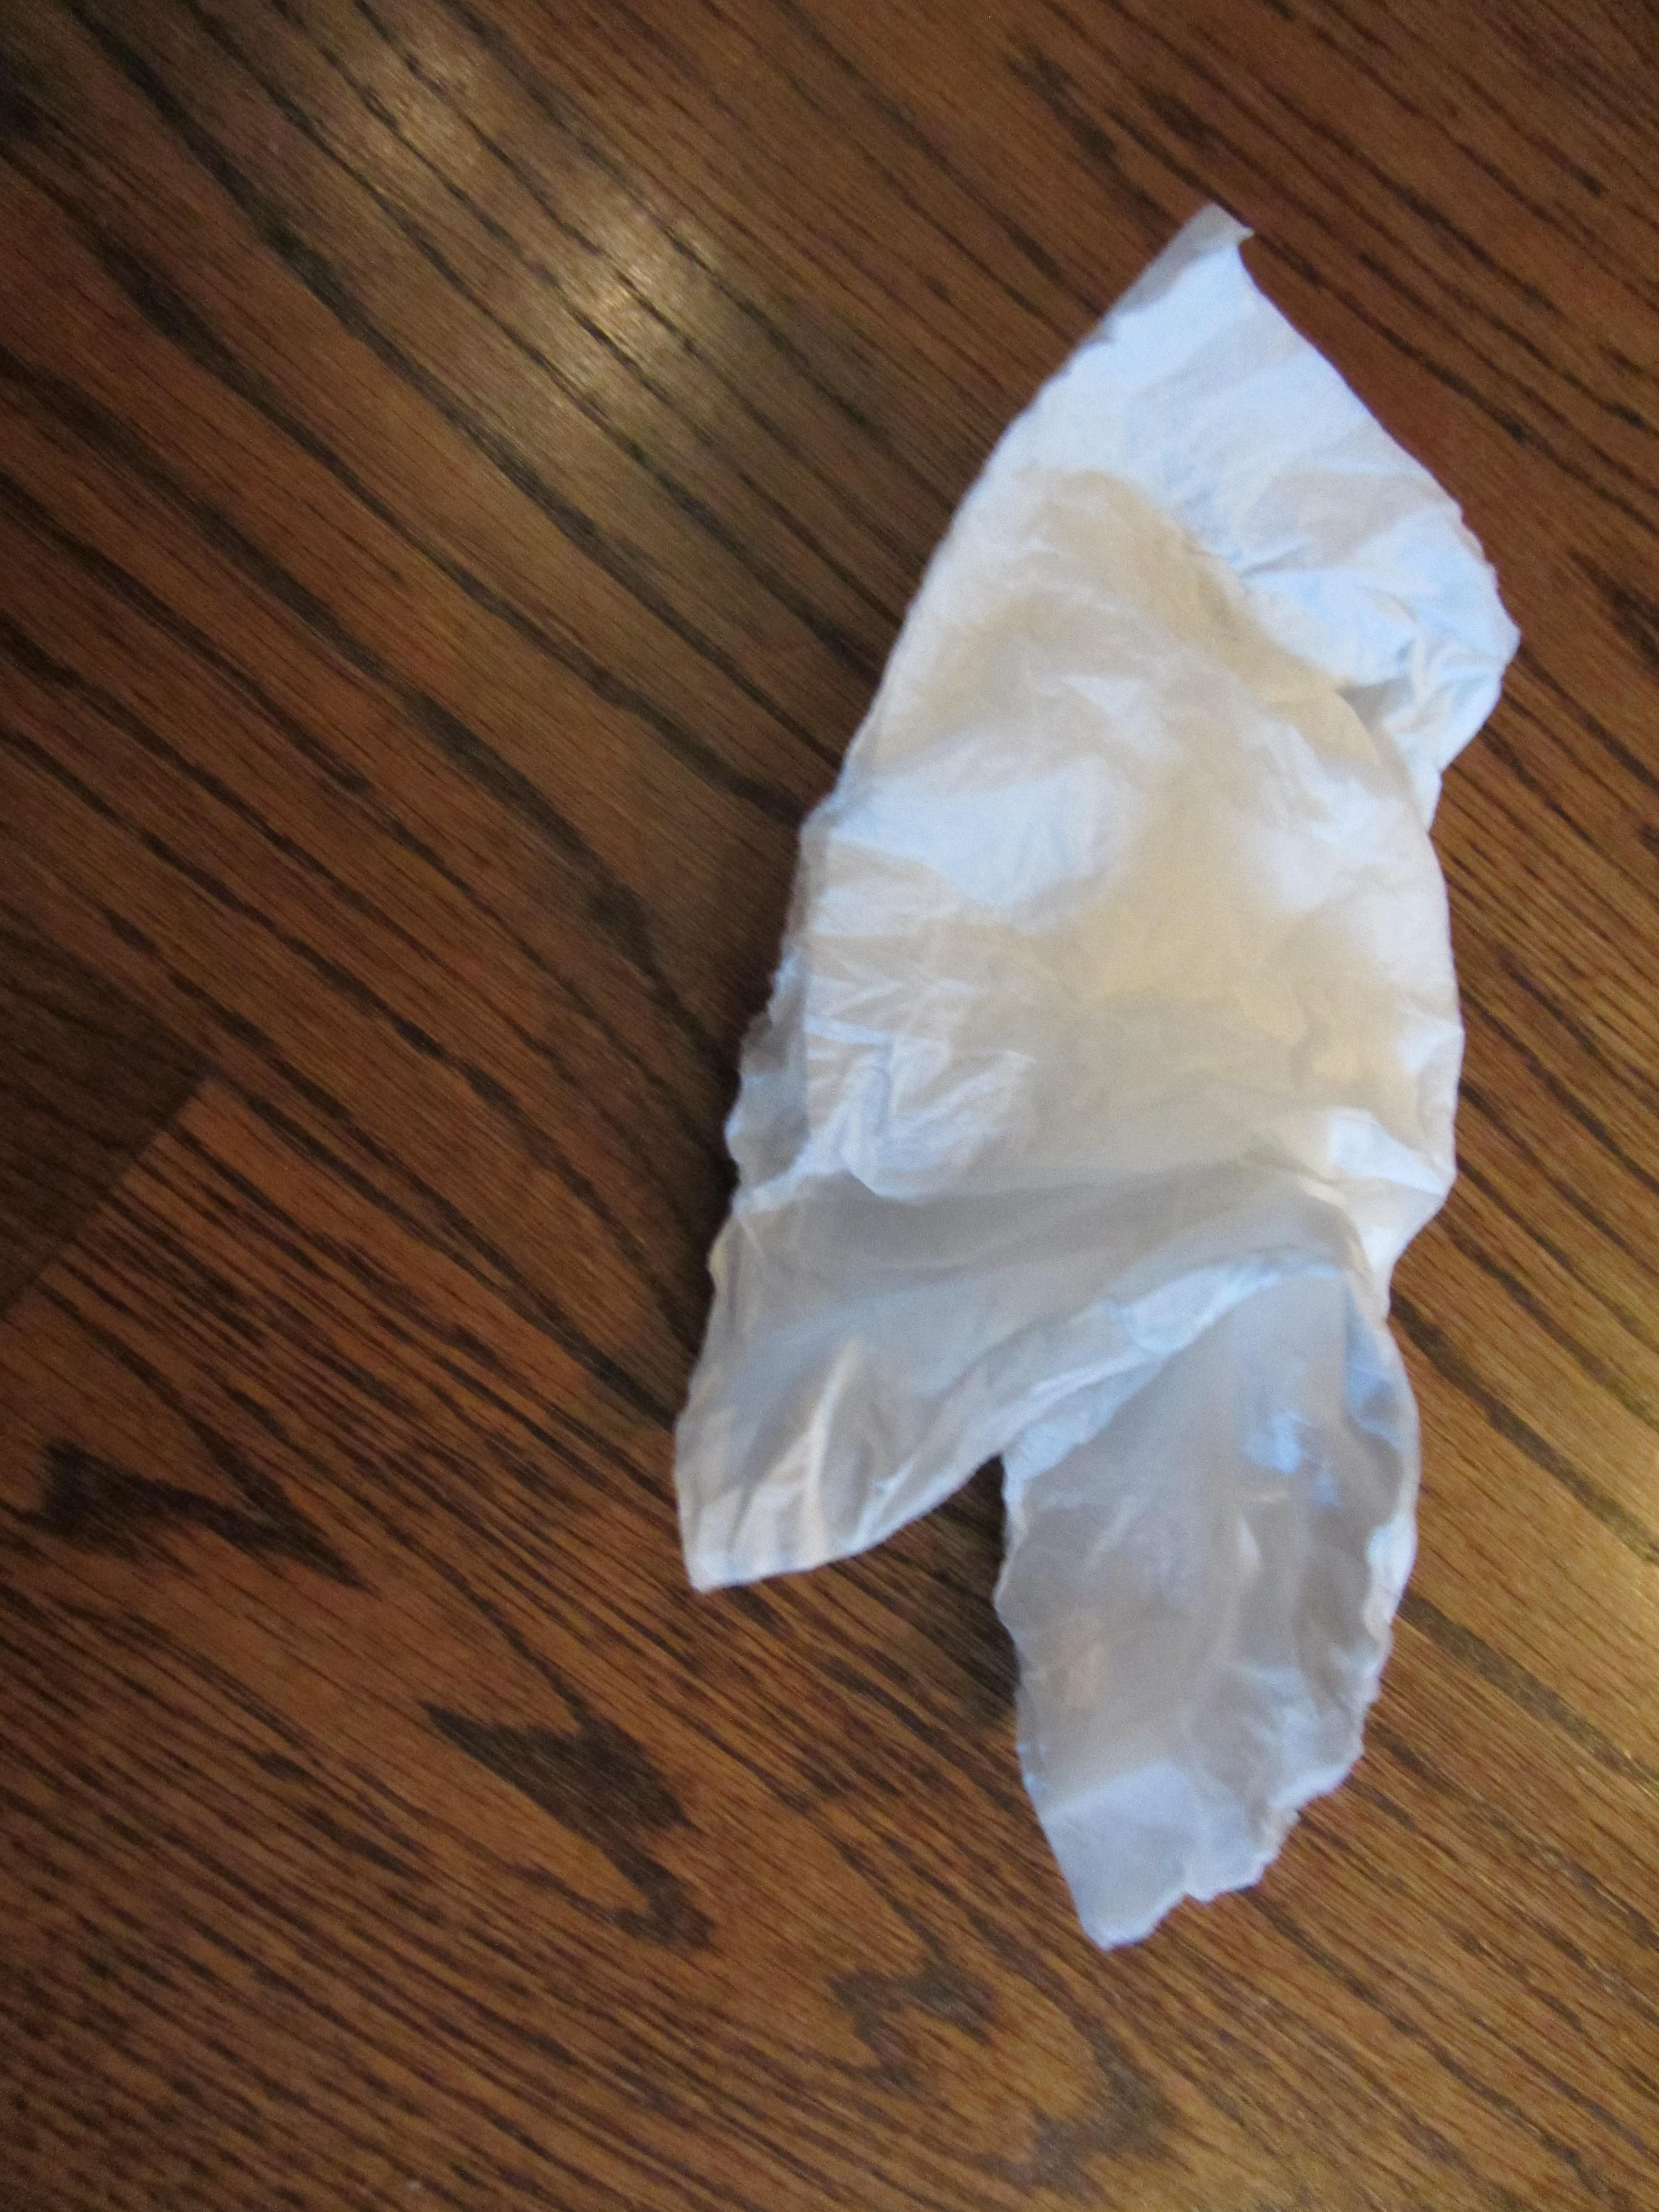tissue: (657, 206, 1523, 1970)
